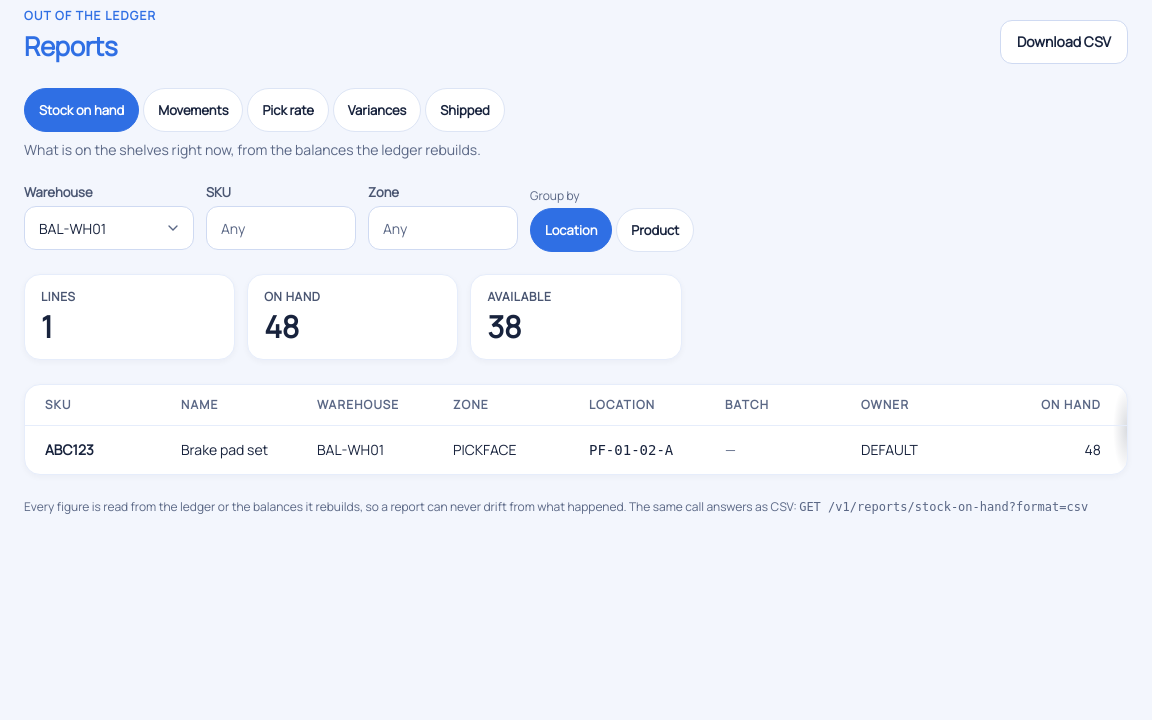
Test: Reports › draws no chart for a single day of movements
Step 1. Click the button "Movements" → (193, 110), box [143,88,244,132]
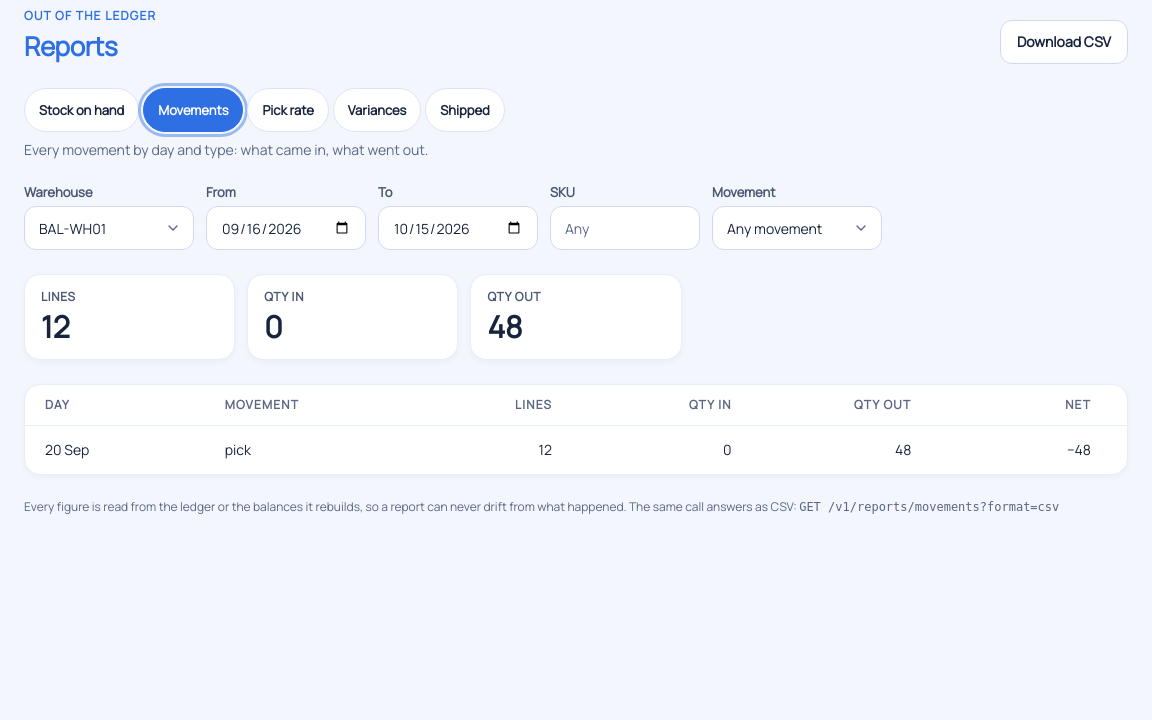
Expected: the text "pick" is shown, [225,440,251,459]
Expected: the text "Qty out" next to "Net" is shown, [854,396,911,413]
